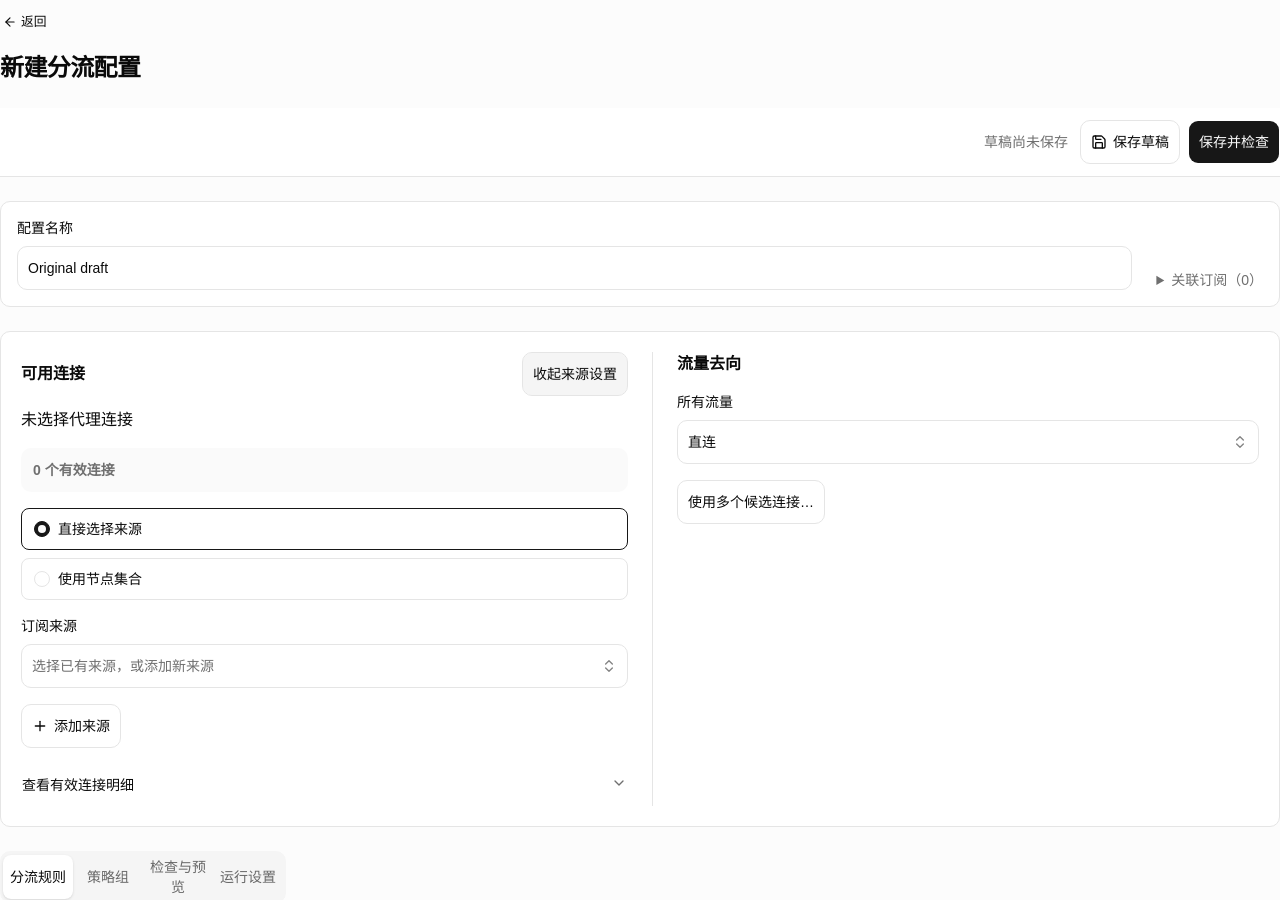
Test: ignores a stale preview failure after editing the same draft
This screenshot has width=1280, height=900.
Click the tab "检查与预览" at x=178, y=877, box [143,854,213,899]
(page scrolled)
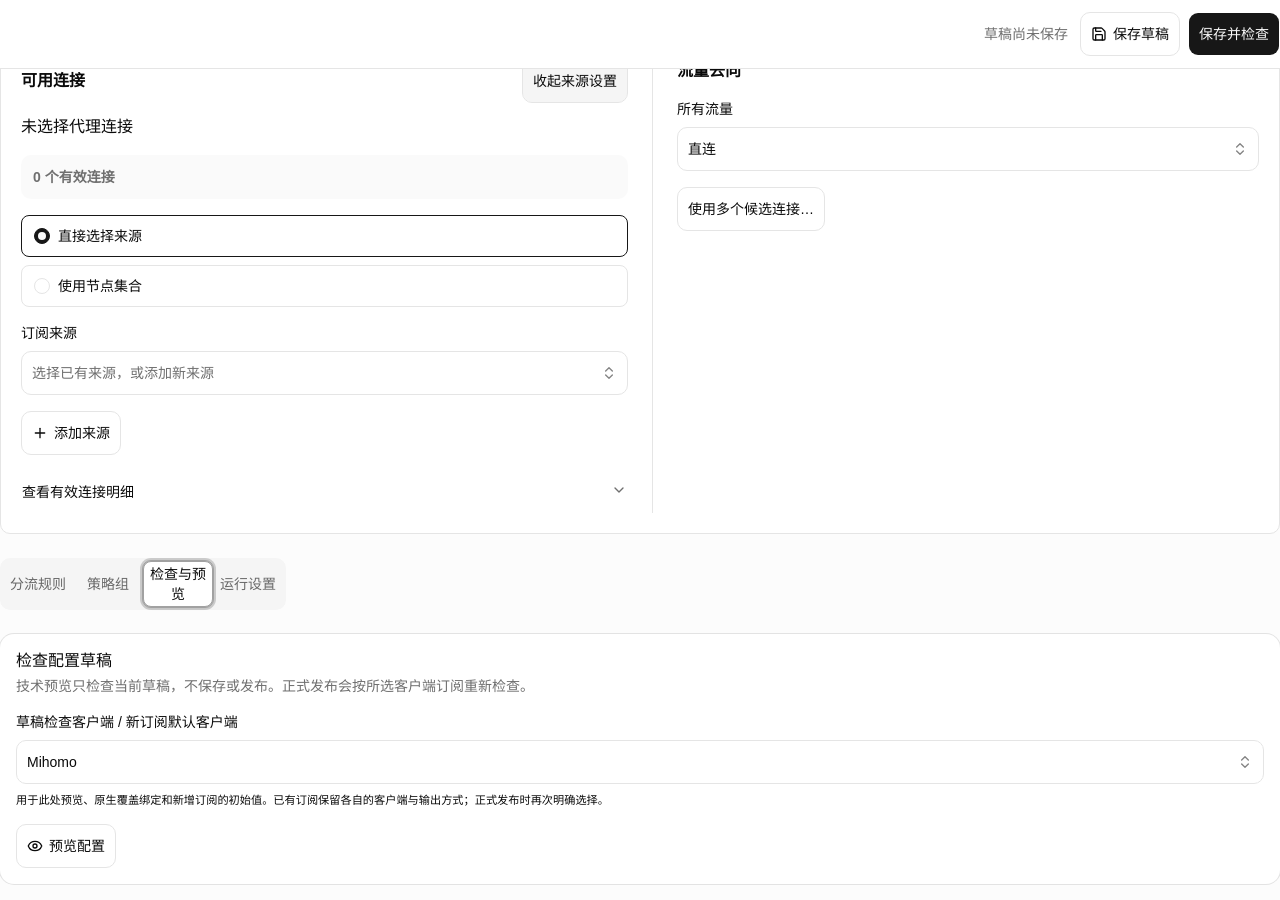
Click the button "预览配置" at x=66, y=846, box [16,824,116,868]
(page scrolled)
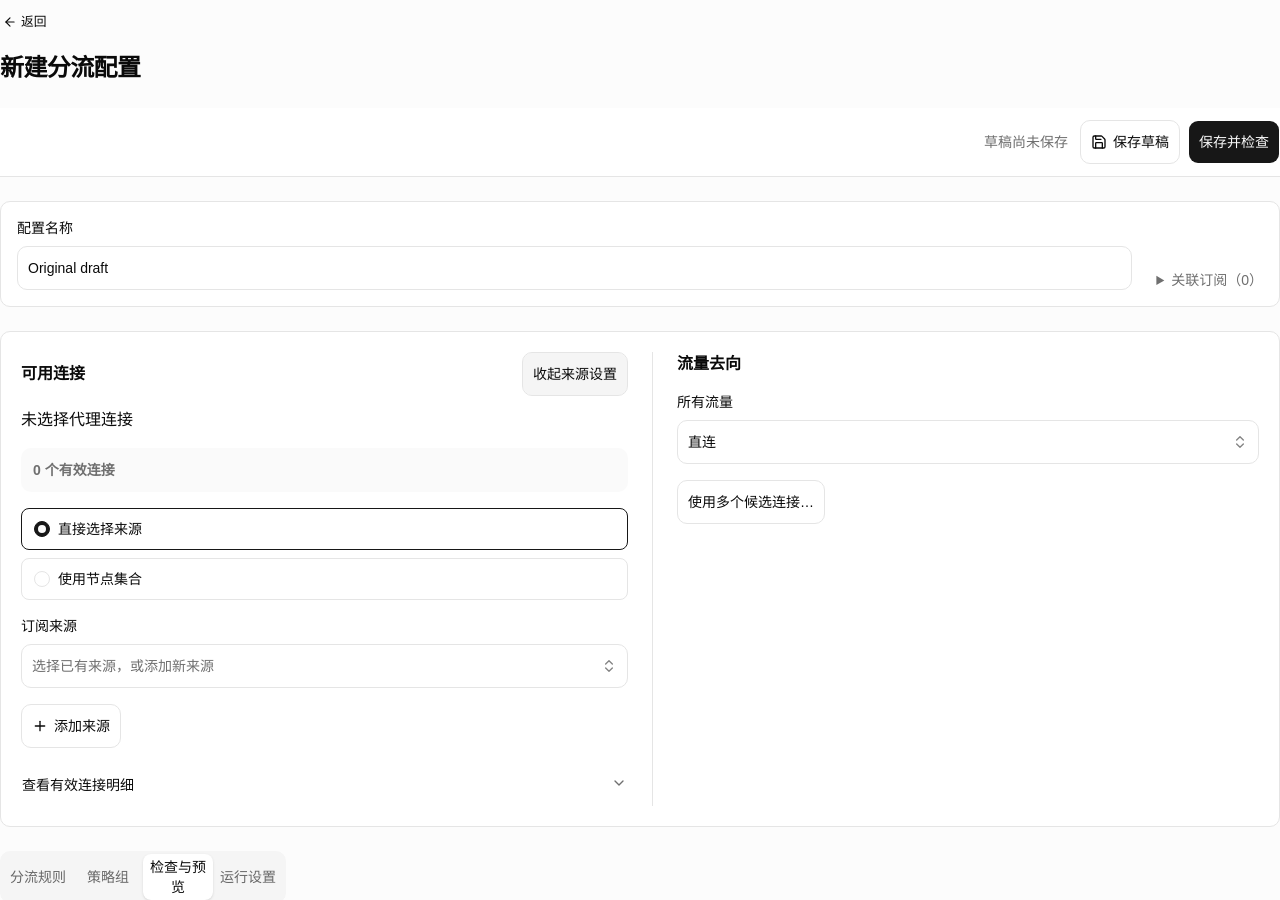
Replace the text in the field labelled "配置名称" with "Newer draft" at x=575, y=268, box [17,246,1132,290]
(page scrolled)
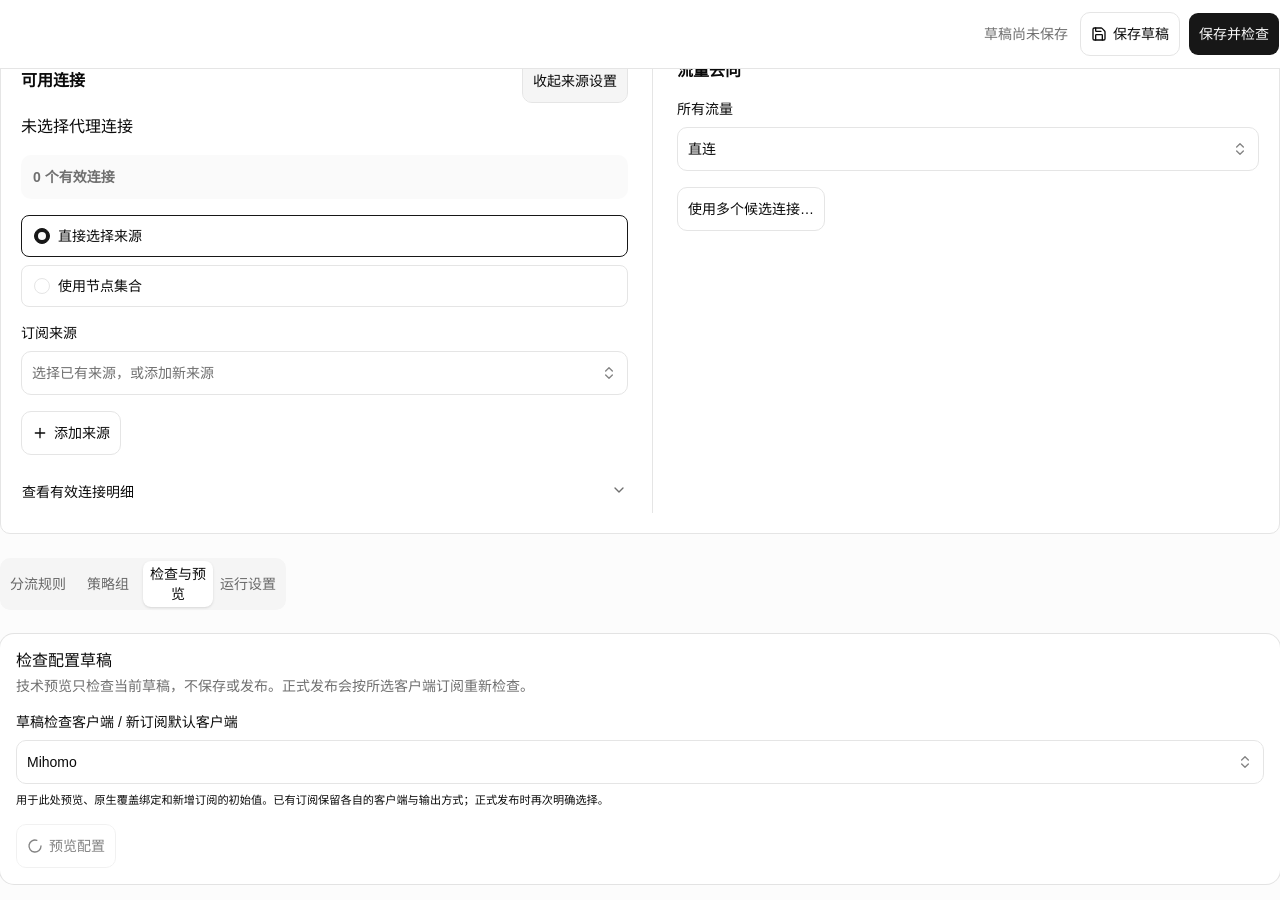
Click the dropdown named "草稿检查与新订阅默认客户端" at x=52, y=762, box [16,740,1264,784]
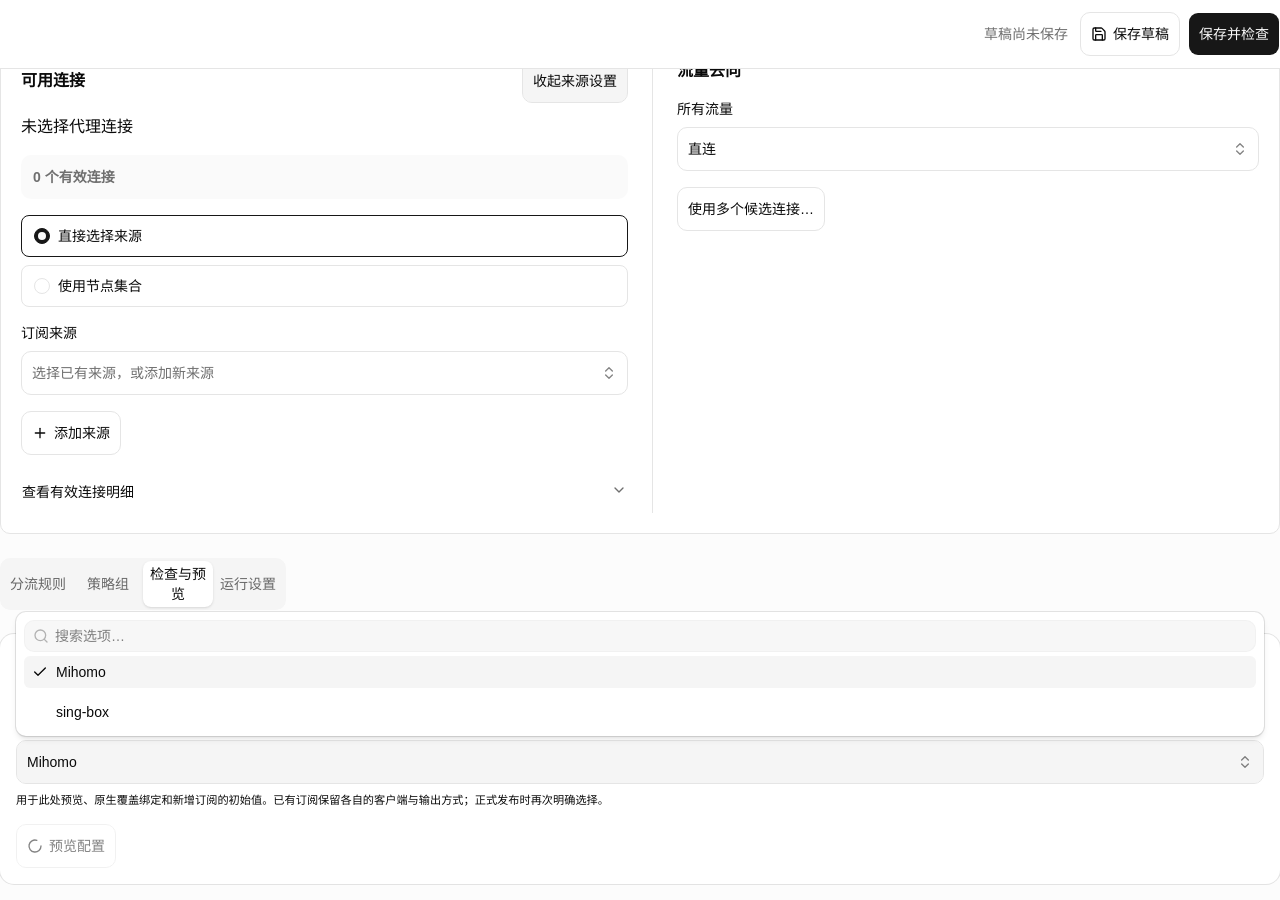
Click the option "sing-box" at x=82, y=712, box [56,704,109,720]
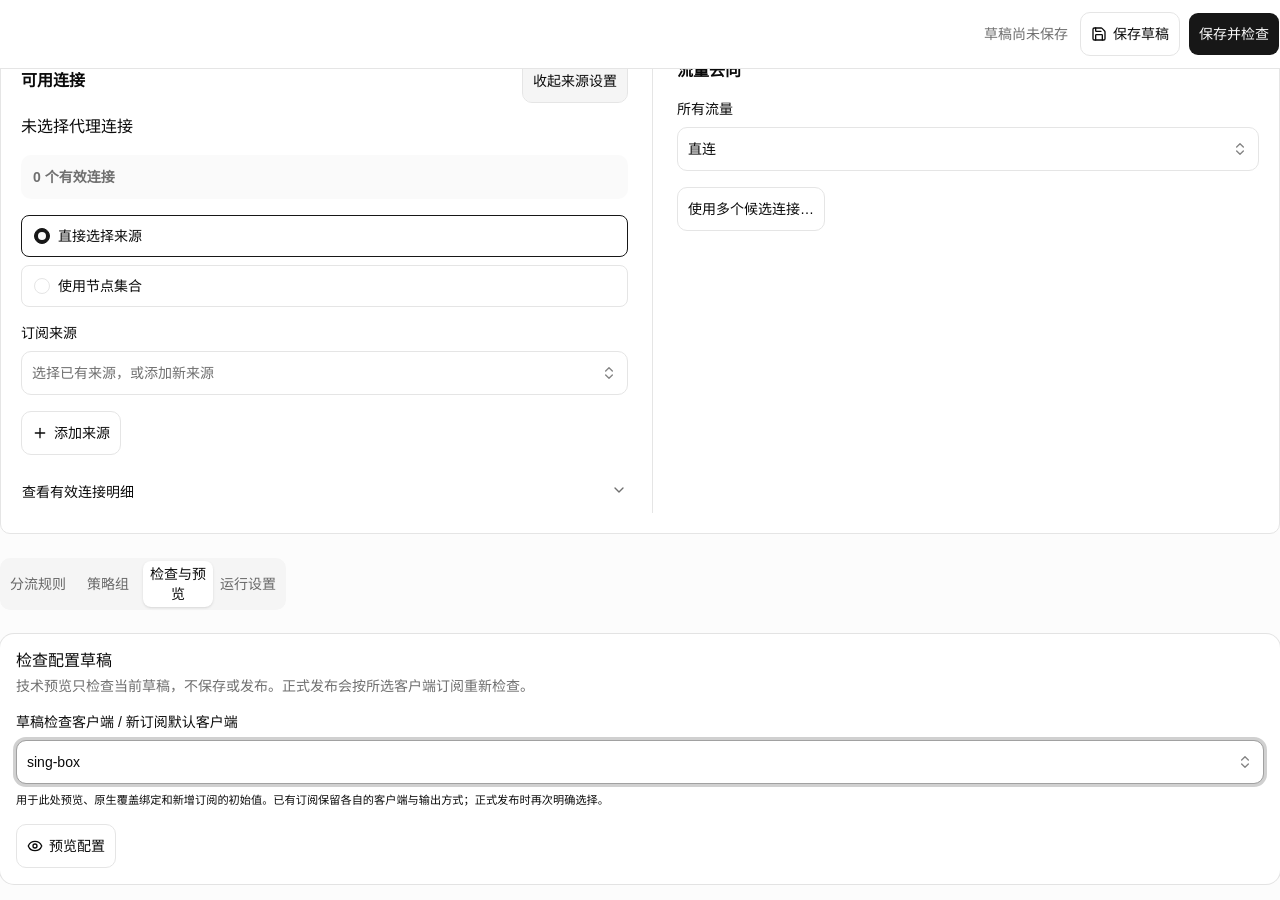
Check: the dropdown named "草稿检查与新订阅默认客户端" reads "sing-box", box [16,740,1264,784]
